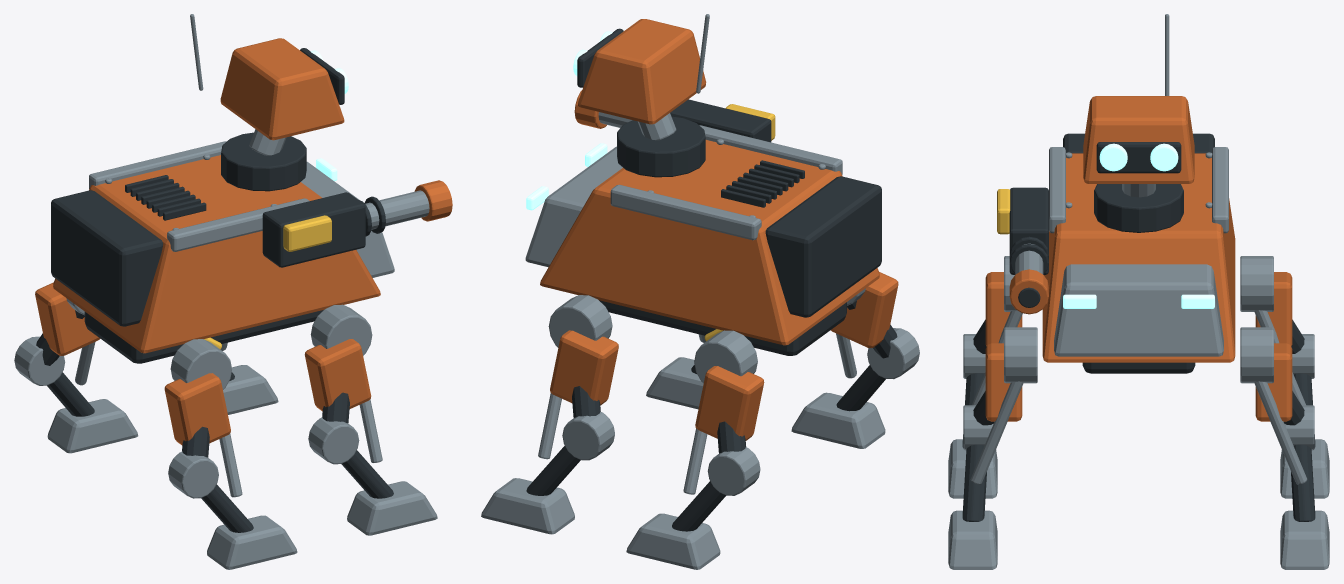
The model's file is Scout.glb.
3 views of the same model, side by side, from view 1: azimuth 30°, elevation 25°; view 2: azimuth 150°, elevation 25°; view 3: azimuth 270°, elevation 25° (orthographic). The views are drawn at different scales.
Parts seen in each view (by area): view 1: SM_Scout_Body, SM_Scout_Sensor, SM_Scout_LegRL, SM_Scout_LegFL, SM_Scout_LegRR, SM_Scout_Weapon, SM_Scout_LegFR; view 2: SM_Scout_Body, SM_Scout_Sensor, SM_Scout_LegFR, SM_Scout_LegRR, SM_Scout_LegRL, SM_Scout_Weapon, SM_Scout_LegFL; view 3: SM_Scout_Body, SM_Scout_Sensor, SM_Scout_LegFL, SM_Scout_LegFR, SM_Scout_LegRR, SM_Scout_Weapon, SM_Scout_LegRL.
Part boxes in pixels (x1,y1,x2,y2): SM_Scout_Body: (51,141,394,363); SM_Scout_Sensor: (190,14,348,191); SM_Scout_LegRL: (164,339,297,569); SM_Scout_LegFL: (304,304,437,535); SM_Scout_LegRR: (14,282,138,453); SM_Scout_Weapon: (262,180,452,267); SM_Scout_LegFR: (220,342,278,414); SM_Scout_Body: (525,125,881,355); SM_Scout_Sensor: (573,14,709,177); SM_Scout_LegFR: (481,295,618,534); SM_Scout_LegRR: (626,330,764,569); SM_Scout_LegRL: (791,272,919,448); SM_Scout_Weapon: (574,90,775,142); SM_Scout_LegFL: (646,334,705,409); SM_Scout_Body: (1042,133,1235,373); SM_Scout_Sensor: (1083,14,1194,232); SM_Scout_LegFL: (948,327,1037,569); SM_Scout_LegFR: (1240,327,1329,569); SM_Scout_LegRR: (1240,256,1329,498); SM_Scout_Weapon: (997,187,1048,314); SM_Scout_LegRL: (948,256,1022,498).
Bounding box in the file's own units: 1.32 × 1.9 × 1.36.
